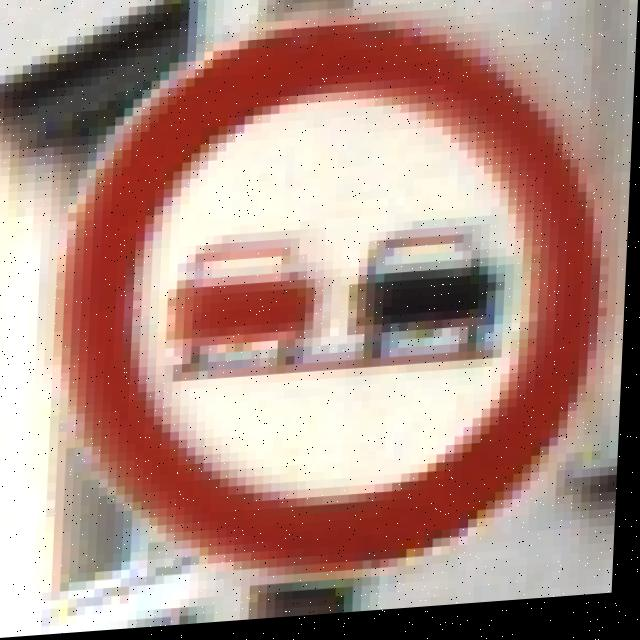no_overtaking: (45, 11, 607, 581)
